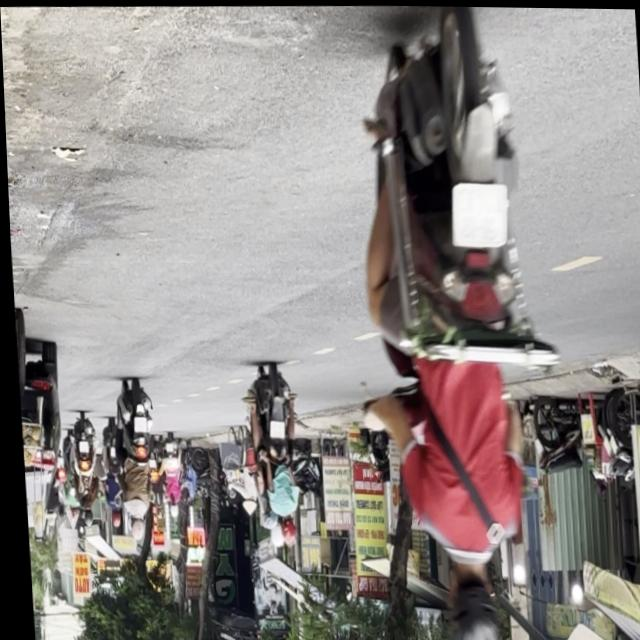helmet: (433, 556, 495, 640), (254, 494, 274, 527), (273, 515, 292, 544), (266, 516, 278, 546)
licenseplate: (334, 4, 570, 640), (238, 359, 303, 547)
nohelmet: (449, 184, 506, 247), (264, 418, 281, 437)
